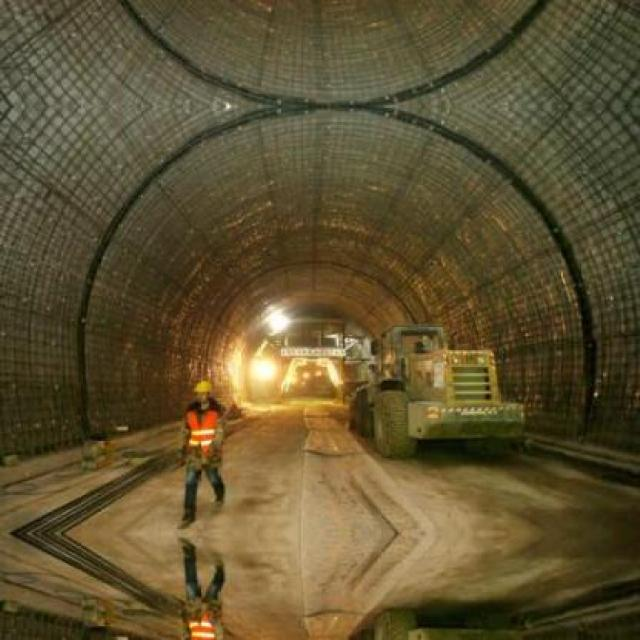helmet: (192, 379, 211, 403)
